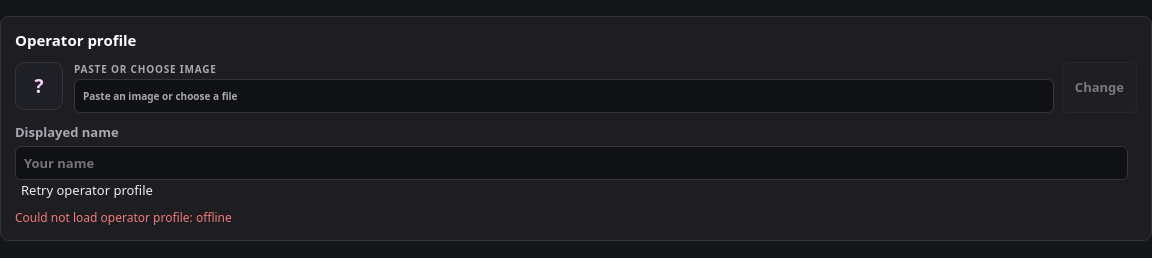
Test: profile fails closed including avatar actions, then retries loaded values
Expected: the message "Could not load operator profile: offline" is shown, [15,209,232,226]
Expected: the field labelled "Displayed name" is disabled, [15,146,1128,180]
Click the button "Retry operator profile" at (87, 190), box [15,180,159,200]
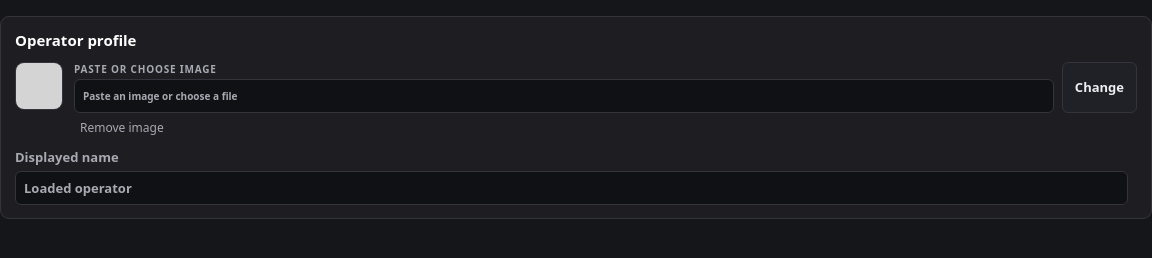
Now the field labelled "Displayed name" holds "Loaded operator", box [15,171,1128,205]
Now the button "Remove image" is enabled, box [74,119,170,138]
Now the field labelled "Displayed name" is enabled, box [15,171,1128,205]
